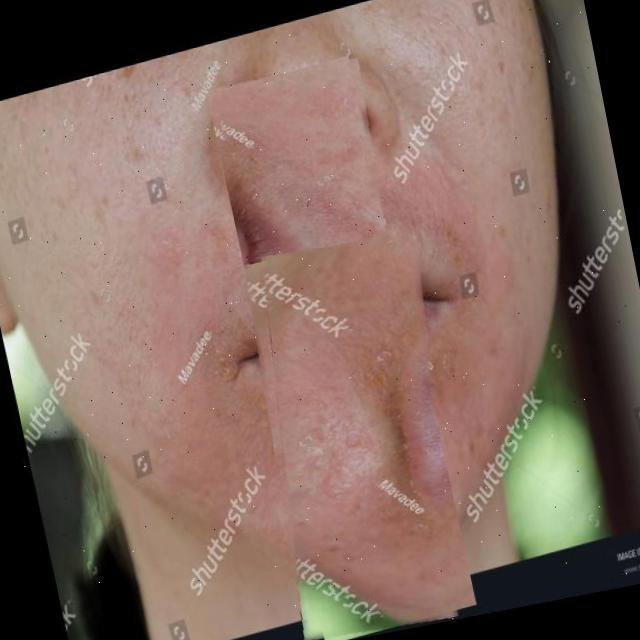redness: (274, 239, 441, 622), (219, 76, 391, 446)
